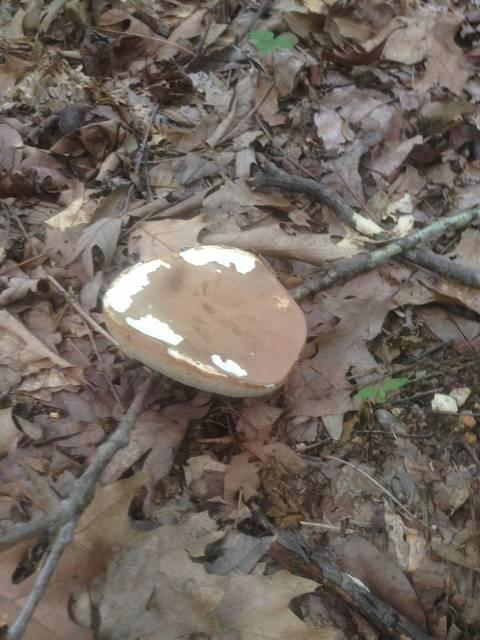Non-edible Mushroom: (99, 242, 308, 399)
